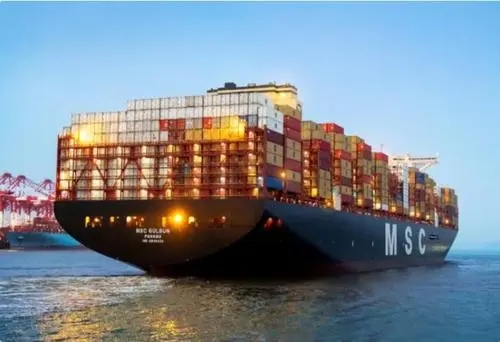Cargoship: (56, 79, 459, 273)
